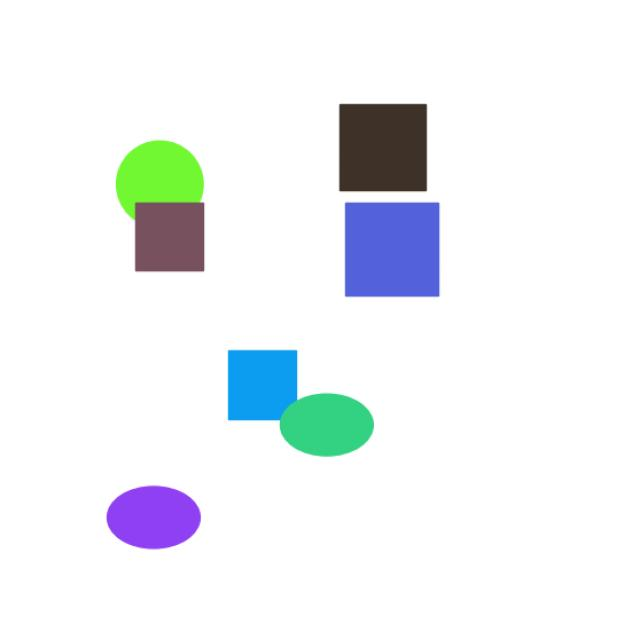Circle: (93, 126, 212, 226)
Oval: (102, 472, 205, 554), (276, 392, 388, 465)
square: (331, 193, 456, 312), (330, 91, 437, 200), (126, 189, 240, 289), (212, 332, 321, 434)
